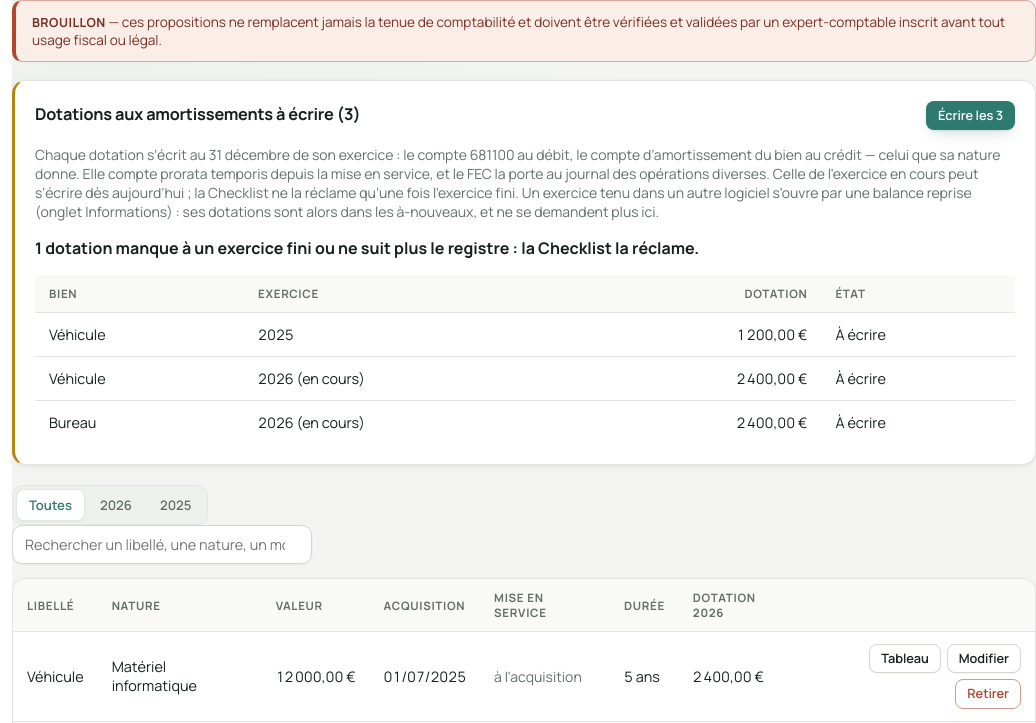
Test: ImmobilisationsTab — les dotations à écrire › un refus de la base se dit, sans arrêter le lot
Click the button "Écrire les 3": (970, 116) [926,101,1015,130]
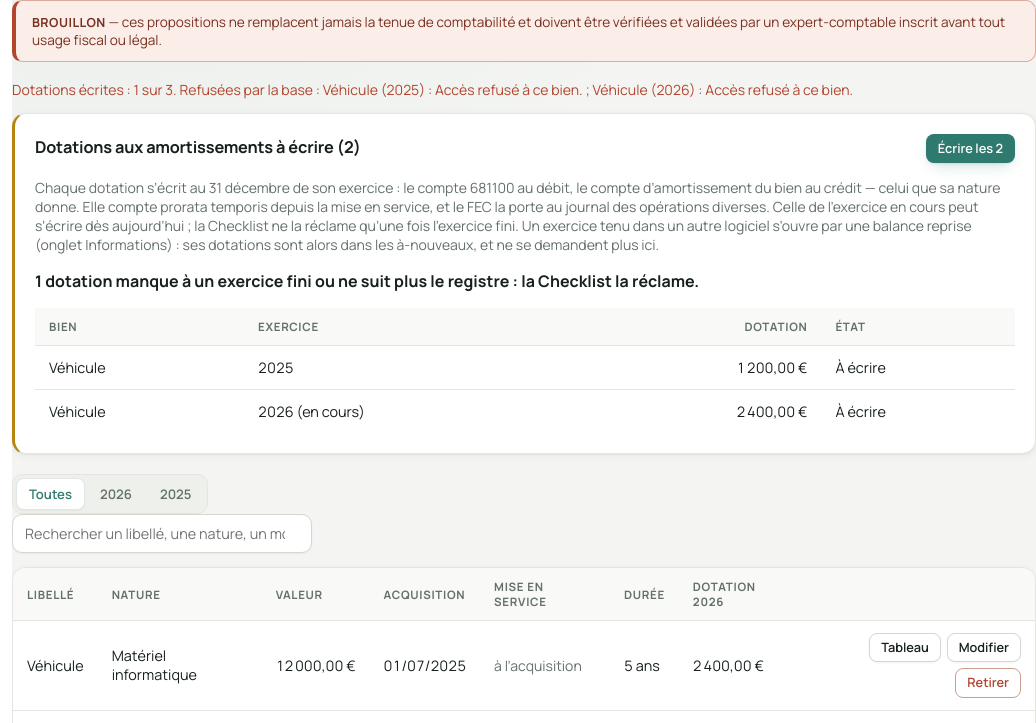
Check: the text "Dotations écrites : 1 sur 3. Refusées par la base : Véhicule (2025) : Accès refusé à ce bien. ; Véhicule (2026)" is shown, box [12,80,853,99]
